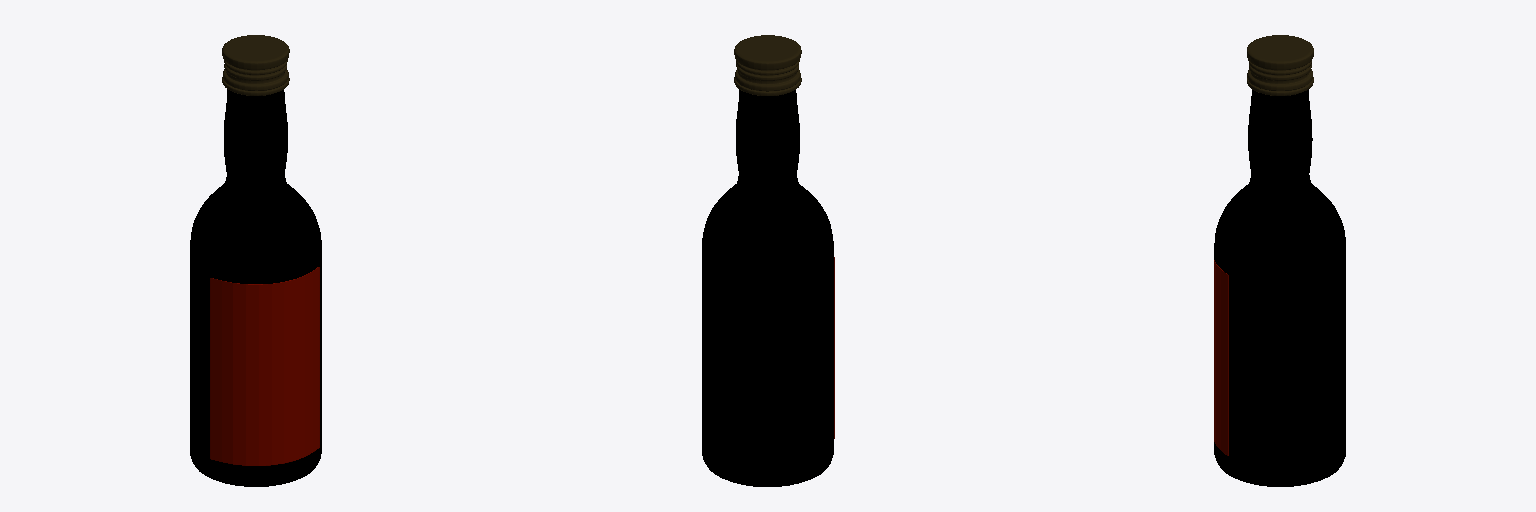
File: Juice.obj
3 renders of one model, left to right at view 1: azimuth 30°, elevation 25°; view 2: azimuth 150°, elevation 25°; view 3: azimuth 270°, elevation 25°, orthographic.
Parts seen in each view (by area): view 1: Juice; view 2: Juice; view 3: Juice.
Part boxes in pixels (left/top/right/bottom): Juice: left=190, top=35, right=321, bottom=486; Juice: left=702, top=35, right=834, bottom=486; Juice: left=1214, top=35, right=1345, bottom=486.
Size of the model in its own units: 53.44 by 185 by 53.66.